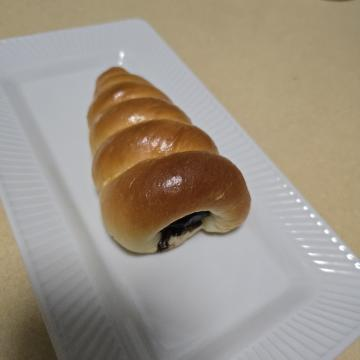cream horn: (55, 100, 277, 288)
